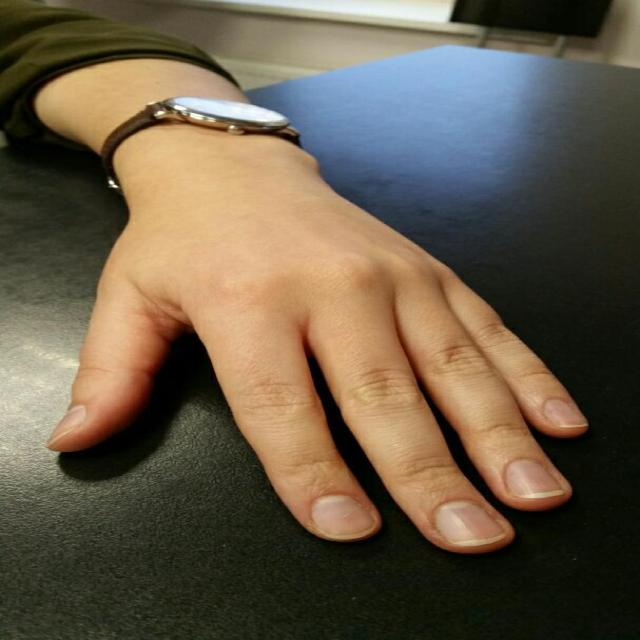Nail: (436, 501, 508, 546), (312, 494, 376, 540), (505, 460, 565, 498), (47, 406, 86, 448), (545, 400, 589, 428)
